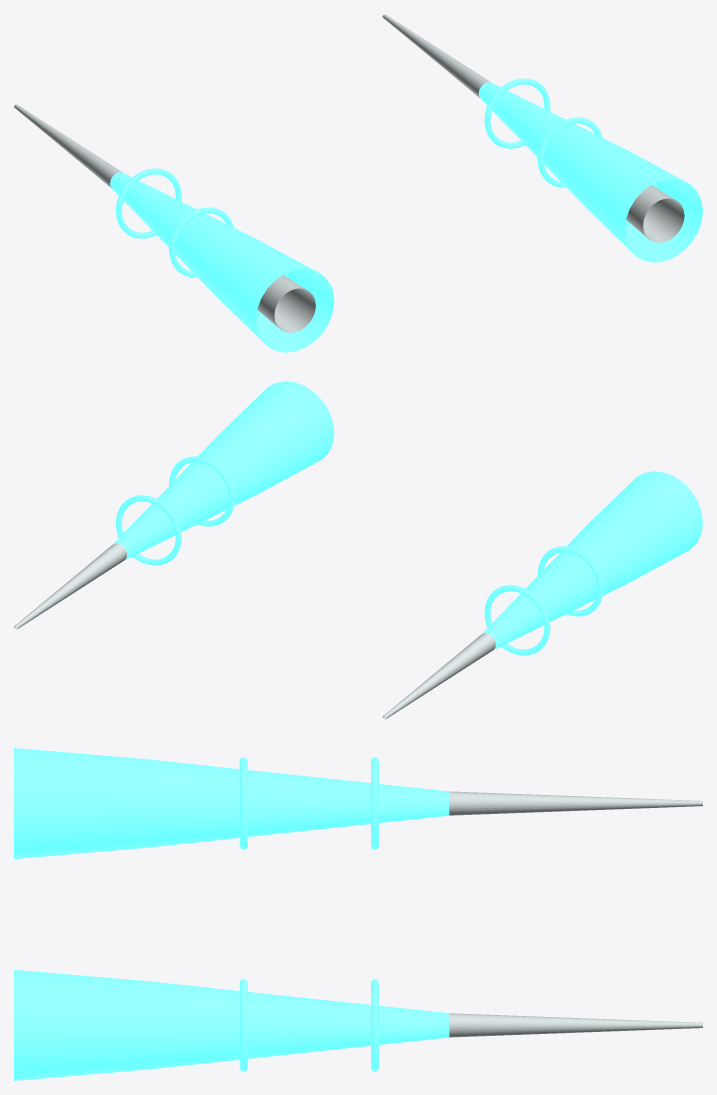
File: JetFX.fbx
3 views of the same model, one above another, from view 1: azimuth 30°, elevation 25°; view 2: azimuth 150°, elevation 25°; view 3: azimuth 270°, elevation 25° (orthographic). The views are drawn at different scales.
Parts seen in each view (by area): view 1: Jet_Plume, Jet_Plume.002, Jet_Plume.001, Jet_Plume.003, Jet_ShockRing.002_Export, Jet_ShockRing.005_Export, Jet_ShockRing.004_Export, Jet_ShockRing.001_Export; view 2: Jet_Plume, Jet_Plume.002, Jet_Plume.003, Jet_Plume.001, Jet_ShockRing.005_Export, Jet_ShockRing.002_Export, Jet_ShockRing.001_Export, Jet_ShockRing.004_Export; view 3: Jet_Plume, Jet_Plume.002, Jet_Plume.001, Jet_Plume.003, Jet_ShockRing.001_Export, Jet_ShockRing.004_Export, Jet_ShockRing.002_Export, Jet_ShockRing.005_Export.
Part boxes in pixels (bbox=[...]): Jet_Plume: bbox=[110, 172, 334, 352]; Jet_Plume.002: bbox=[478, 82, 702, 262]; Jet_Plume.001: bbox=[14, 104, 315, 332]; Jet_Plume.003: bbox=[382, 14, 684, 242]; Jet_ShockRing.002_Export: bbox=[116, 168, 181, 238]; Jet_ShockRing.005_Export: bbox=[484, 78, 550, 148]; Jet_ShockRing.004_Export: bbox=[537, 117, 602, 187]; Jet_ShockRing.001_Export: bbox=[169, 207, 233, 277]; Jet_Plume: bbox=[481, 471, 702, 650]; Jet_Plume.002: bbox=[113, 381, 334, 559]; Jet_Plume.003: bbox=[14, 543, 126, 629]; Jet_Plume.001: bbox=[382, 633, 495, 719]; Jet_ShockRing.005_Export: bbox=[116, 495, 181, 565]; Jet_ShockRing.002_Export: bbox=[484, 585, 550, 655]; Jet_ShockRing.001_Export: bbox=[537, 546, 603, 616]; Jet_ShockRing.004_Export: bbox=[169, 456, 234, 526]; Jet_Plume: bbox=[14, 748, 449, 858]; Jet_Plume.002: bbox=[14, 970, 449, 1080]; Jet_Plume.001: bbox=[449, 791, 702, 815]; Jet_Plume.003: bbox=[449, 1013, 702, 1037]; Jet_ShockRing.001_Export: bbox=[239, 757, 247, 849]; Jet_ShockRing.004_Export: bbox=[239, 979, 247, 1071]; Jet_ShockRing.002_Export: bbox=[371, 757, 378, 849]; Jet_ShockRing.005_Export: bbox=[371, 979, 378, 1071].
Bounding box in the file's own units: 97 × 17 × 105.
